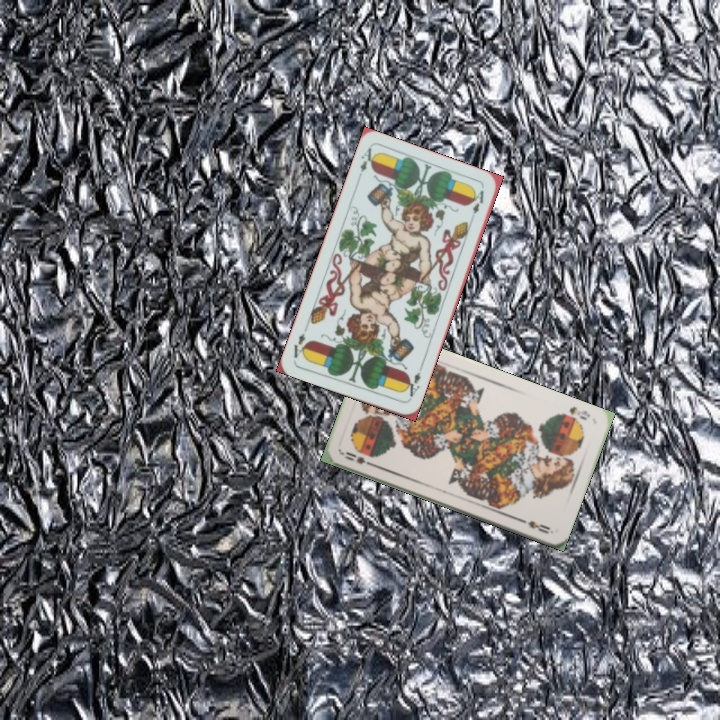EA: (353, 144, 379, 183), (400, 368, 423, 402)
SO: (338, 448, 377, 470), (555, 402, 593, 424)
